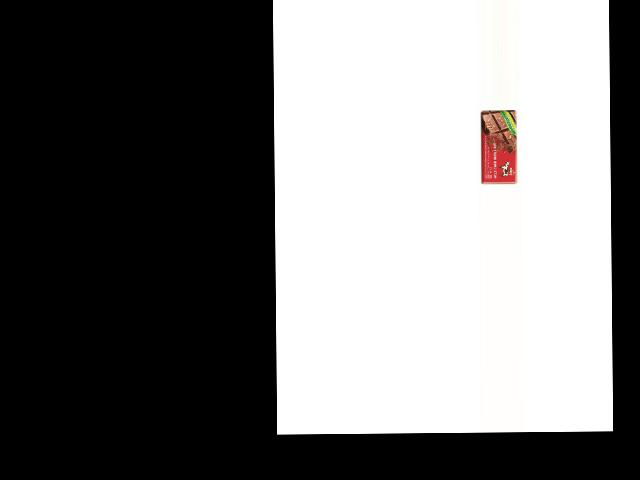chocolate: (479, 109, 518, 185)
